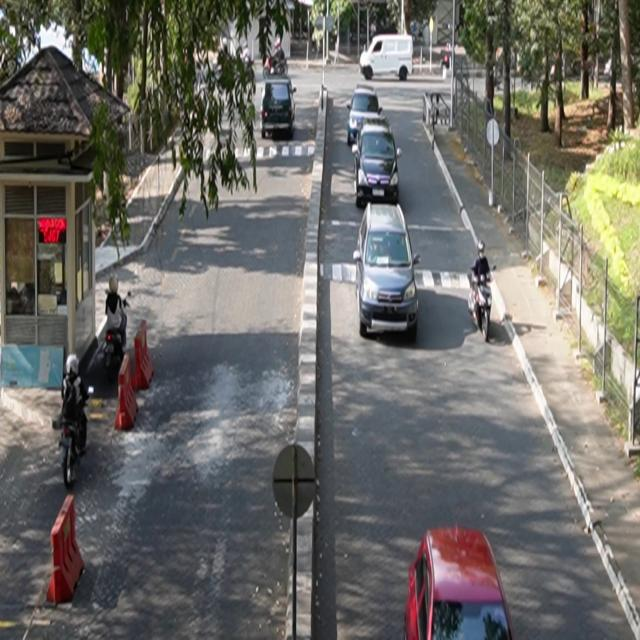car: (405, 526, 515, 640), (354, 202, 422, 340), (352, 122, 403, 208), (261, 78, 297, 140), (348, 89, 384, 146)
